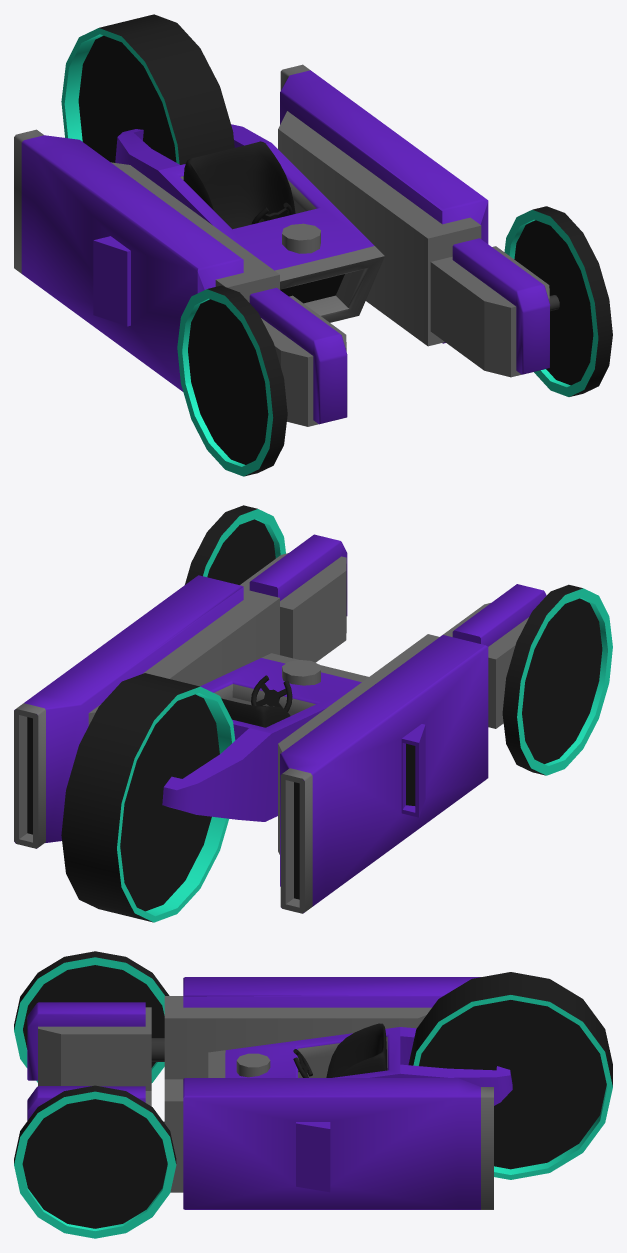
Rendered from luigi_carrao_d_tres_roda_e_tres_pe.fbx.
The picture shows the model from 3 angles, top to bottom: view 1: azimuth 30°, elevation 25°; view 2: azimuth 150°, elevation 25°; view 3: azimuth 270°, elevation 25°; orthographic projection. The views are drawn at different scales.
Parts seen in each view (by area): view 1: Cube.002, Cube.001, Cylinder.003, Cylinder.001; view 2: Cube.002, Cube.001, Cylinder.003, Cylinder.001; view 3: Cube.002, Cube.001, Cylinder.001, Cylinder.003.
Boxes of the visible parts, x1,y1,x2,y2 form: Cube.002: [14, 64, 550, 426]; Cube.001: [61, 14, 234, 164]; Cylinder.003: [177, 285, 287, 476]; Cylinder.001: [504, 206, 612, 396]; Cube.002: [14, 534, 546, 913]; Cube.001: [61, 673, 235, 922]; Cylinder.003: [502, 584, 612, 775]; Cylinder.001: [185, 505, 285, 584]; Cube.002: [27, 977, 512, 1209]; Cube.001: [408, 972, 612, 1179]; Cylinder.001: [14, 1085, 176, 1238]; Cylinder.003: [14, 951, 169, 1082].
Size of the model in its own units: 246 by 151 by 443.
